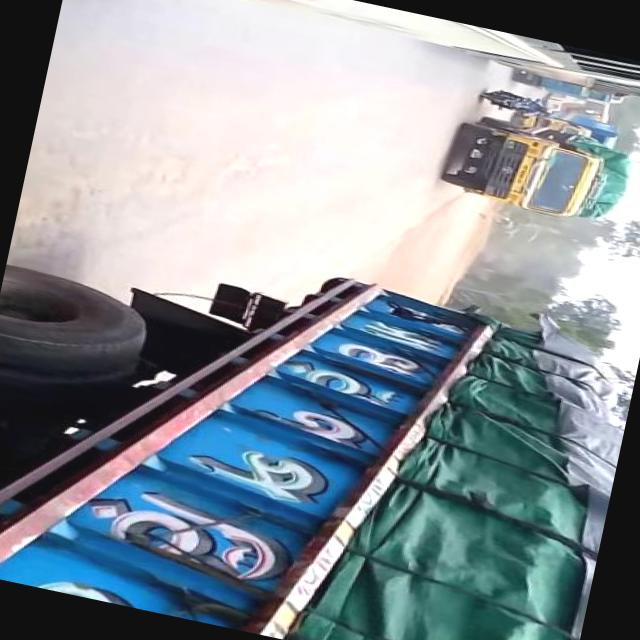bus: (71, 0, 640, 109), (512, 68, 618, 105)
motorcycle: (478, 84, 558, 124)
truck: (0, 200, 640, 640), (437, 108, 639, 232), (518, 101, 624, 150)
